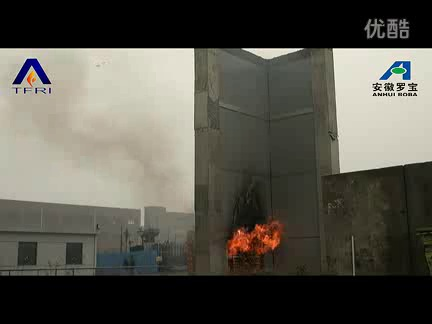fire: (223, 214, 285, 262)
